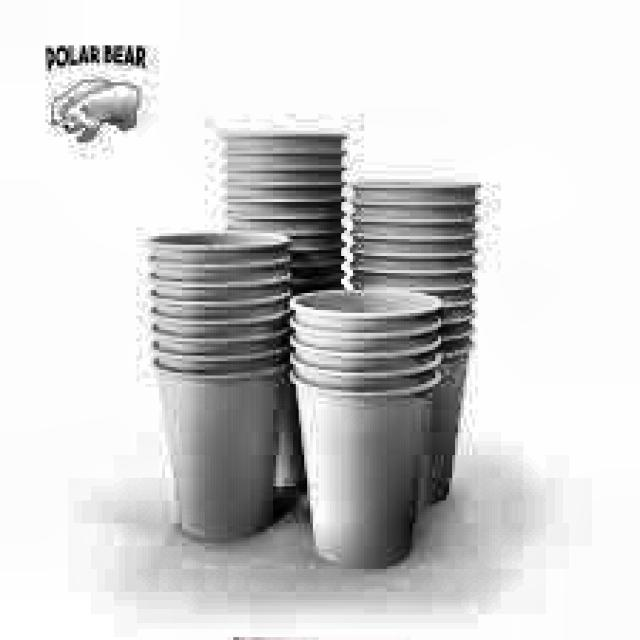Cup: (142, 227, 288, 532), (288, 271, 434, 568)
